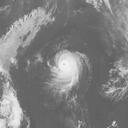cyclone: (49, 48, 88, 93)
